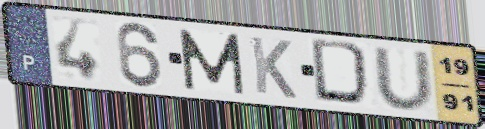4: (55, 17, 105, 83)
6: (114, 21, 163, 90)
D: (308, 37, 377, 110)
K: (247, 34, 299, 101)
M: (176, 27, 248, 96)
U: (370, 46, 437, 113)
